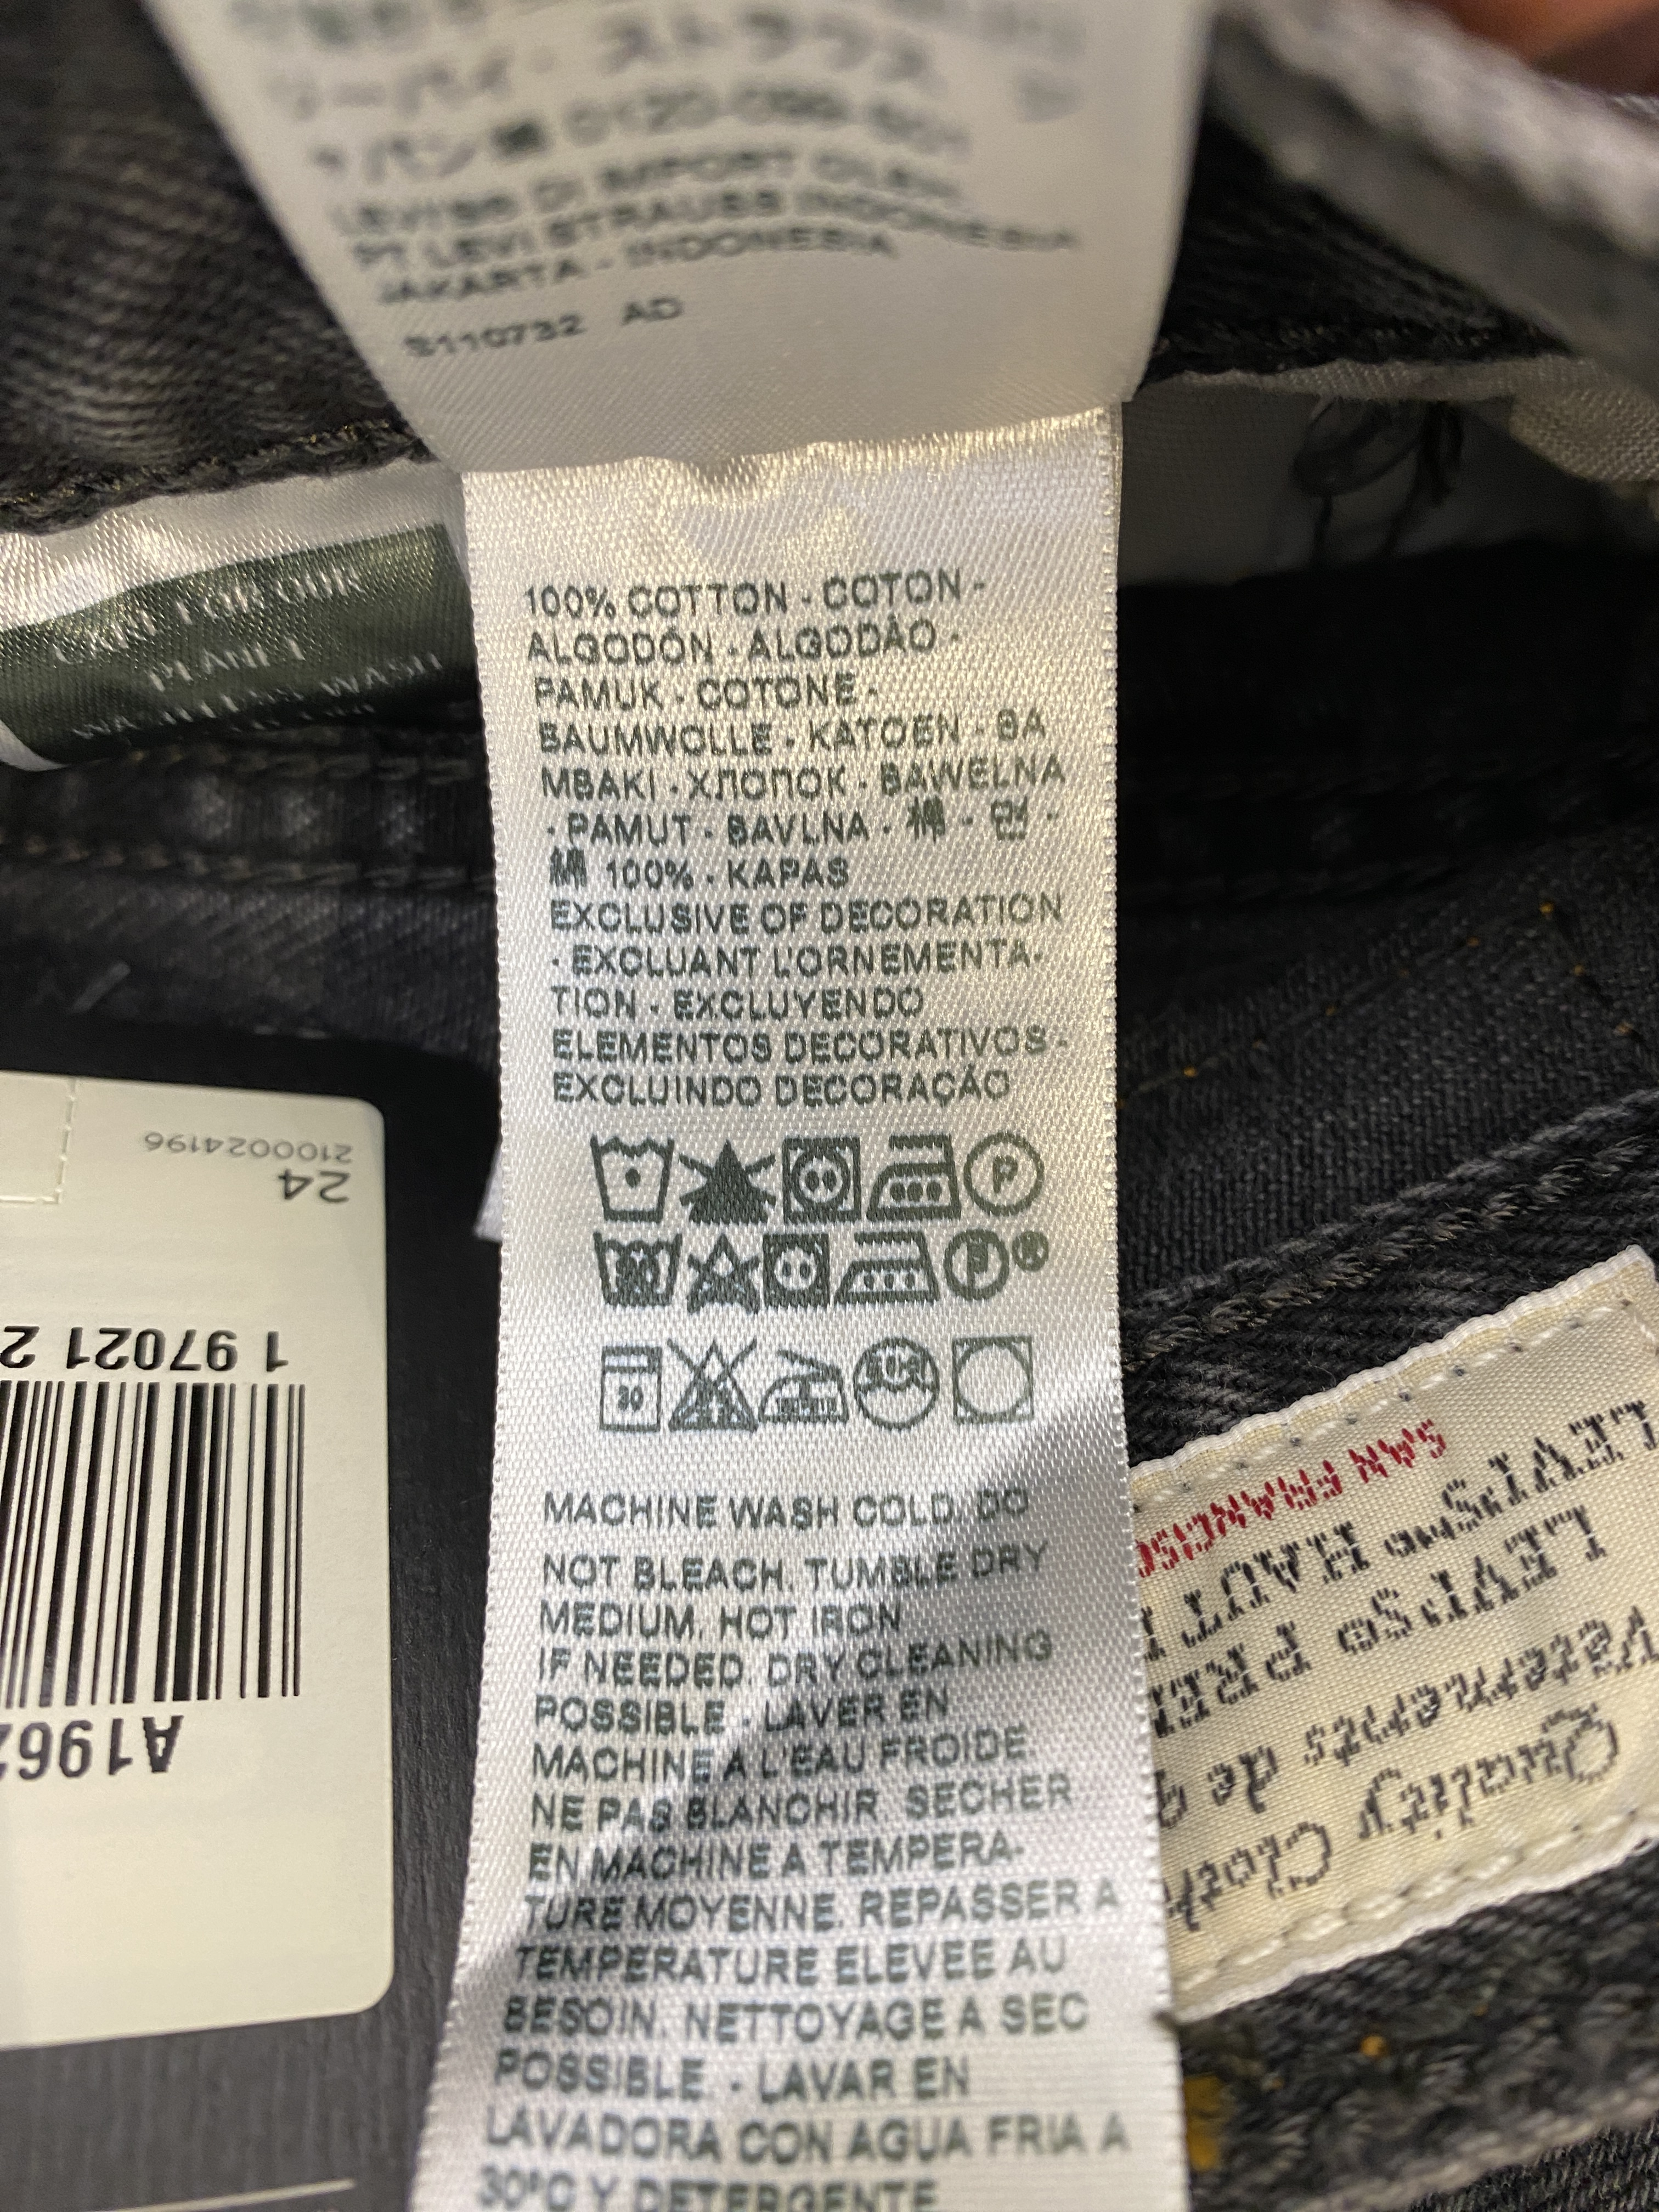icon: (667, 1336, 762, 1442), (849, 1332, 941, 1437), (951, 1329, 1042, 1432), (676, 1137, 781, 1226), (870, 1130, 964, 1221), (586, 1230, 683, 1313), (587, 1134, 676, 1224), (962, 1130, 1049, 1221), (781, 1132, 864, 1226), (836, 1231, 943, 1305), (589, 1341, 666, 1440), (676, 1235, 760, 1322), (765, 1235, 836, 1315), (945, 1226, 1014, 1301)
